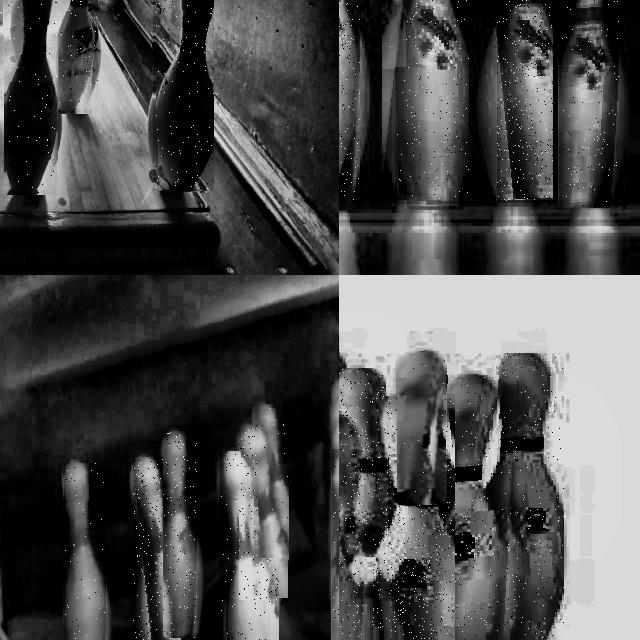bowling-pins: (431, 376, 510, 640), (372, 397, 454, 640), (496, 354, 564, 640), (395, 0, 469, 202), (560, 0, 618, 208), (497, 0, 553, 201), (155, 0, 213, 191), (6, 0, 58, 194), (221, 452, 270, 640), (133, 458, 181, 640), (339, 369, 385, 557), (64, 463, 105, 640), (397, 352, 444, 504), (239, 426, 279, 600), (165, 432, 197, 638), (257, 404, 288, 558), (58, 0, 96, 112), (383, 0, 404, 65), (13, 0, 25, 56)
